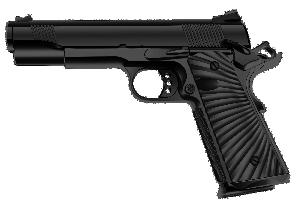handgun: (6, 8, 292, 199)
